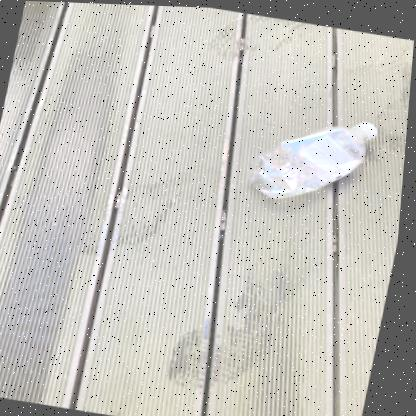Plastic: (253, 117, 378, 195)
